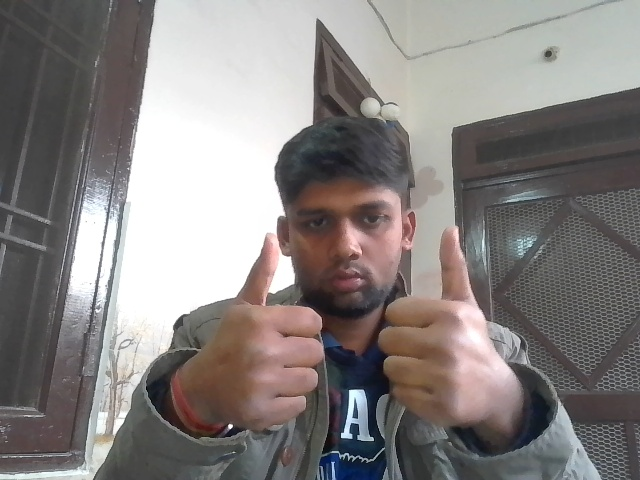Excellent: (190, 216, 494, 437)
